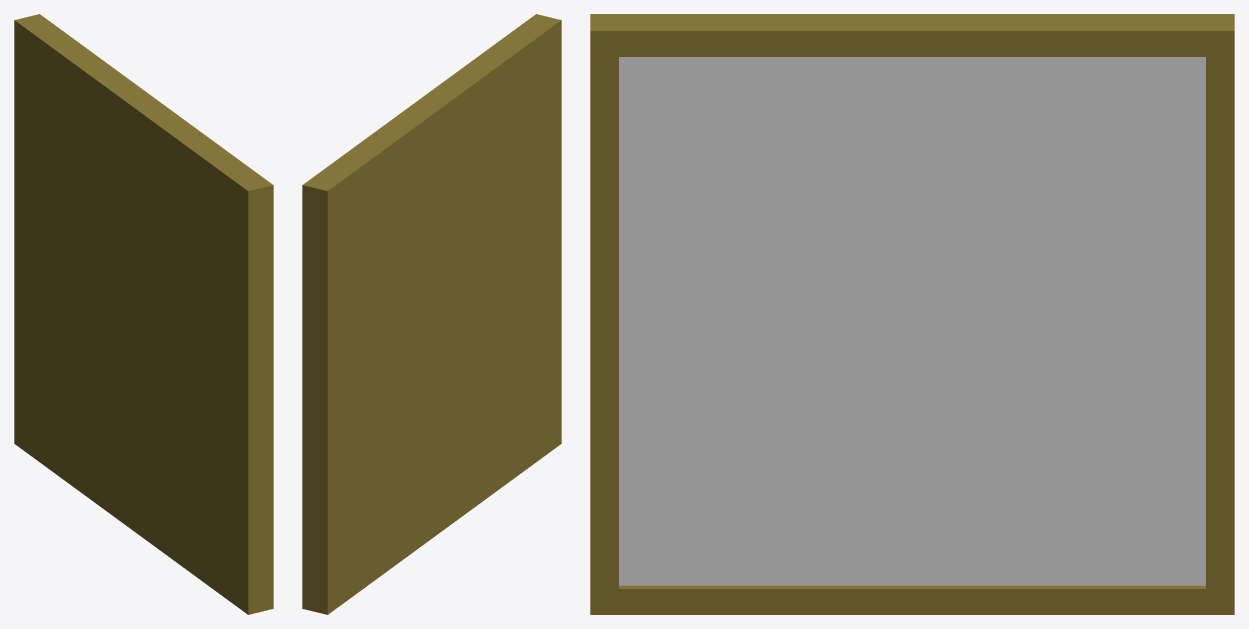
Rendered from Paiting.fbx.
3 views of the same model, side by side, from view 1: azimuth 30°, elevation 25°; view 2: azimuth 150°, elevation 25°; view 3: azimuth 270°, elevation 25° (orthographic). The views are drawn at different scales.
Parts seen in each view (by area): view 1: Cube; view 2: Cube; view 3: Cube.
Part boxes in pixels (x1=…): Cube: x1=14, y1=14, x2=273, y2=614; Cube: x1=302, y1=14, x2=561, y2=614; Cube: x1=590, y1=14, x2=1234, y2=614.
Size of the model in its own units: 24.93 by 400 by 400.
